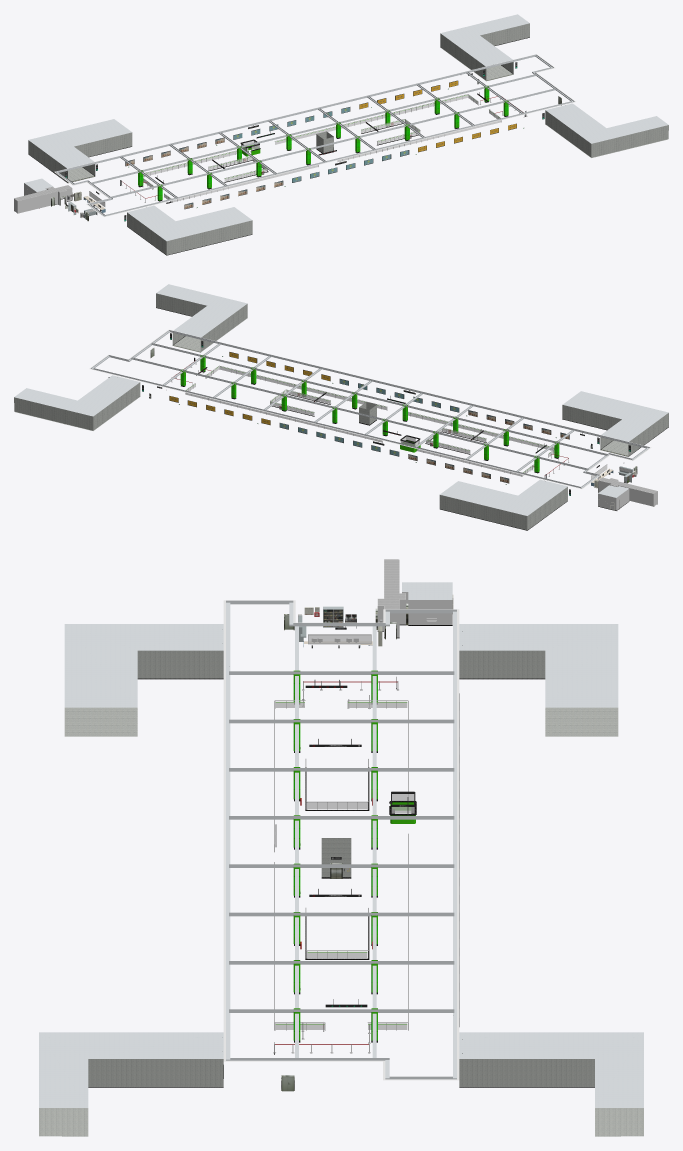
The model's file is VR_zhanting.fbx.
3 renders of one model, top to bottom at view 1: azimuth 30°, elevation 25°; view 2: azimuth 150°, elevation 25°; view 3: azimuth 270°, elevation 25°, orthographic. The views are drawn at different scales.
Parts seen in each view (by area): view 1: pasted__polySurface29, pasted__polySurface470, pasted__polySurface471, pasted__polySurface27, pasted__polySurface38, pasted__polySurface48, pasted__polySurface50, pasted__polySurface46, pasted__polySurface35, pasted__pasted__polySurface5886, pasted__pasted__polySurface5885, pasted__pasted__polySurface5884; view 2: pasted__polySurface470, pasted__polySurface29, pasted__polySurface27, pasted__polySurface471, pasted__polySurface38, pasted__polySurface50, pasted__polySurface46, pasted__polySurface48, pasted__polySurface33, pasted__pasted__polySurface5886, pasted__pasted__polySurface5885, pasted__polySurface35 (+1 smaller); view 3: pasted__polySurface29, pasted__polySurface470, pasted__polySurface471, pasted__polySurface27, pasted__polySurface38, pasted__polySurface50, pasted__polySurface48, pasted__polySurface33, pasted__polySurface46, pasted__polySurface41, pasted__polySurface45, pasted__polySurface37 (+7 smaller).
Part boxes in pixels (bbox=[...]): pasted__polySurface29: bbox=[127, 205, 252, 255]; pasted__polySurface470: bbox=[28, 119, 132, 183]; pasted__polySurface471: bbox=[545, 103, 668, 157]; pasted__polySurface27: bbox=[440, 14, 529, 81]; pasted__polySurface38: bbox=[56, 54, 574, 216]; pasted__polySurface48: bbox=[90, 74, 537, 184]; pasted__polySurface50: bbox=[54, 54, 575, 216]; pasted__polySurface46: bbox=[109, 88, 556, 198]; pasted__polySurface35: bbox=[14, 188, 72, 213]; pasted__pasted__polySurface5886: bbox=[275, 94, 467, 144]; pasted__pasted__polySurface5885: bbox=[337, 120, 501, 162]; pasted__pasted__polySurface5884: bbox=[172, 165, 318, 202]; pasted__polySurface470: bbox=[439, 479, 567, 530]; pasted__polySurface29: bbox=[562, 391, 668, 456]; pasted__polySurface27: bbox=[14, 375, 140, 430]; pasted__polySurface471: bbox=[156, 284, 247, 352]; pasted__polySurface38: bbox=[91, 330, 649, 488]; pasted__polySurface50: bbox=[89, 329, 651, 488]; pasted__polySurface46: bbox=[151, 343, 608, 455]; pasted__polySurface48: bbox=[131, 357, 588, 470]; pasted__polySurface33: bbox=[598, 485, 629, 510]; pasted__pasted__polySurface5886: bbox=[185, 392, 382, 442]; pasted__pasted__polySurface5885: bbox=[219, 366, 386, 410]; pasted__polySurface35: bbox=[598, 480, 657, 506]; pasted__polySurface29: bbox=[64, 624, 223, 736]; pasted__polySurface470: bbox=[459, 624, 618, 736]; pasted__polySurface471: bbox=[39, 1032, 223, 1136]; pasted__polySurface27: bbox=[459, 1032, 643, 1136]; pasted__polySurface38: bbox=[226, 600, 456, 1079]; pasted__polySurface50: bbox=[223, 600, 459, 1080]; pasted__polySurface48: bbox=[372, 626, 376, 1057]; pasted__polySurface33: bbox=[402, 582, 452, 625]; pasted__polySurface46: bbox=[295, 626, 298, 1057]; pasted__polySurface41: bbox=[229, 912, 454, 916]; pasted__polySurface45: bbox=[229, 719, 454, 723]; pasted__polySurface37: bbox=[321, 838, 351, 878].
Bounding box in the file's own units: 15661 × 443 × 7257.
